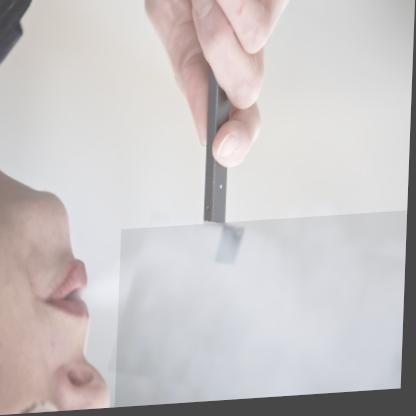smoke: (118, 216, 409, 409)
